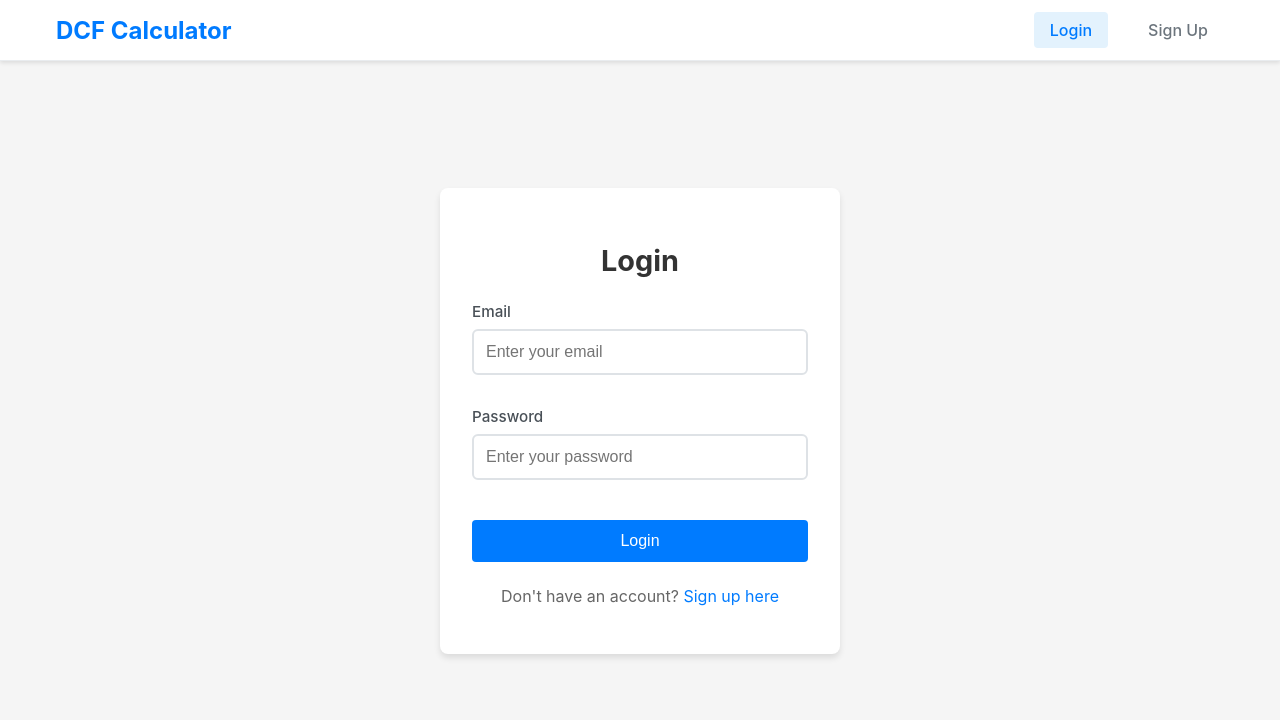
Authentication Flow › User Login › should show validation errors for empty fields
The image size is (1280, 720).
Try to submit without filling fields
What coordinates should you click on to do the following:
click the button with test id "login-button"
I would click on:
 (640, 541)
Its box is [472,520,808,562].
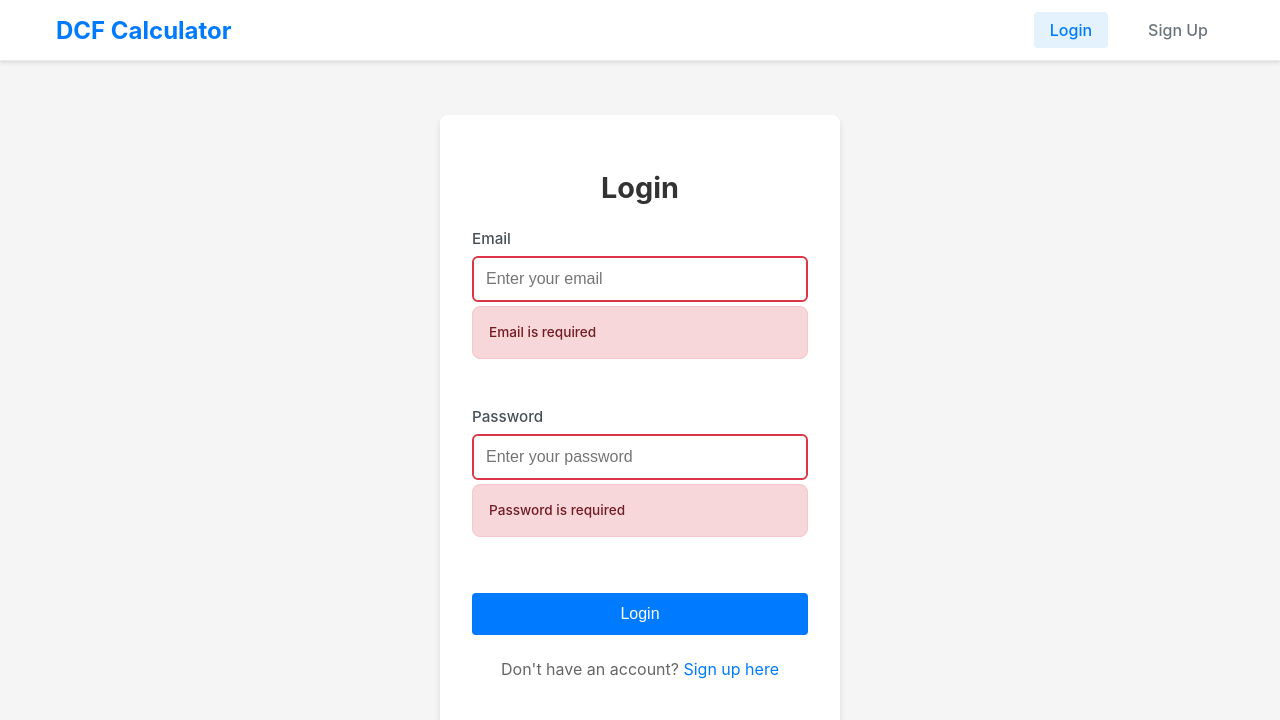
Now the text "Email is required" is shown, box [472,306,808,359]
Now the text "Password is required" is shown, box [472,484,808,537]
